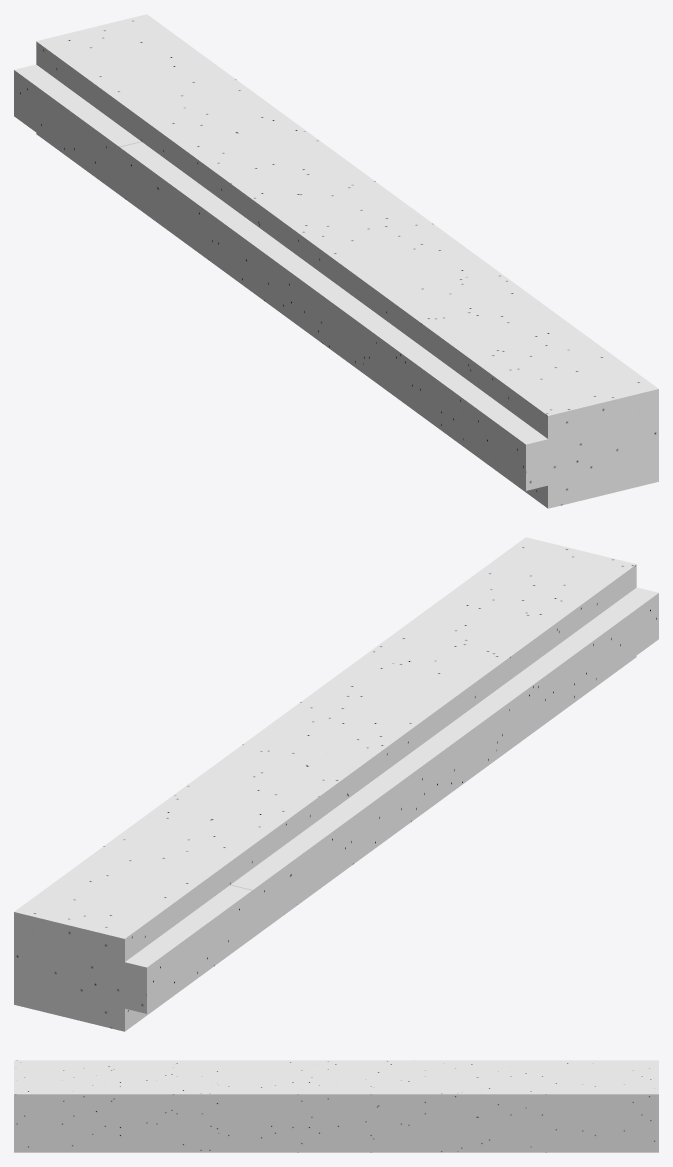
File: BordeadosMansion.fbx
The picture shows the model from 3 angles, top to bottom: view 1: azimuth 30°, elevation 25°; view 2: azimuth 150°, elevation 25°; view 3: azimuth 270°, elevation 25°; orthographic projection. The views are drawn at different scales.
Visible parts, largest first — view 1: BordeadosMansion; view 2: BordeadosMansion; view 3: BordeadosMansion.
Boxes of the visible parts, x1,y1,x2,y2 form: BordeadosMansion: [14, 14, 658, 508]; BordeadosMansion: [14, 537, 658, 1031]; BordeadosMansion: [14, 1060, 658, 1152].
Size of what is drawn, in the model's own units: 200 by 30 by 20.
